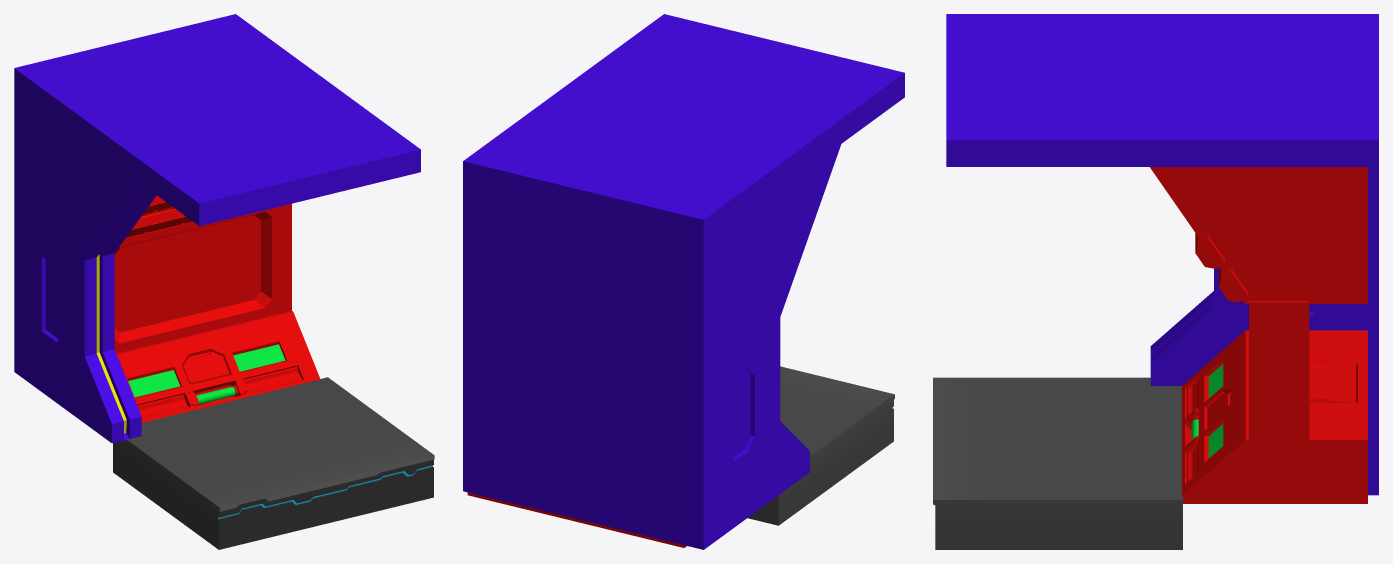
File: BackGrawndB.fbx
3 renders of one model, left to right at view 1: azimuth 30°, elevation 25°; view 2: azimuth 150°, elevation 25°; view 3: azimuth 270°, elevation 25°, orthographic. The views are drawn at different scales.
Parts seen in each view (by area): view 1: Wall, BackGrawndFloor, WallParts, Bace1, BaceParts1; view 2: Wall, BackGrawndFloor, Bace1; view 3: Wall, BackGrawndFloor, Bace1, Bace2, WallParts, BaceParts1, BaceParts2.
Boxes of the visible parts, box(x1,y1,x2,y2) form: Wall: box(14, 14, 420, 443); BackGrawndFloor: box(113, 377, 434, 549); WallParts: box(114, 203, 291, 353); Bace1: box(116, 310, 320, 422); BaceParts1: box(125, 208, 192, 238); Wall: box(463, 14, 904, 549); BackGrawndFloor: box(747, 366, 894, 525); Bace1: box(467, 492, 686, 547); Wall: box(946, 14, 1378, 495); BackGrawndFloor: box(933, 377, 1182, 549); Bace1: box(1182, 330, 1367, 503); Bace2: box(1150, 167, 1367, 303); WallParts: box(1249, 301, 1309, 442); BaceParts1: box(1218, 267, 1248, 302); BaceParts2: box(1195, 233, 1224, 268).
Bounding box in the file's own units: 42.78 × 61.64 × 61.51.
